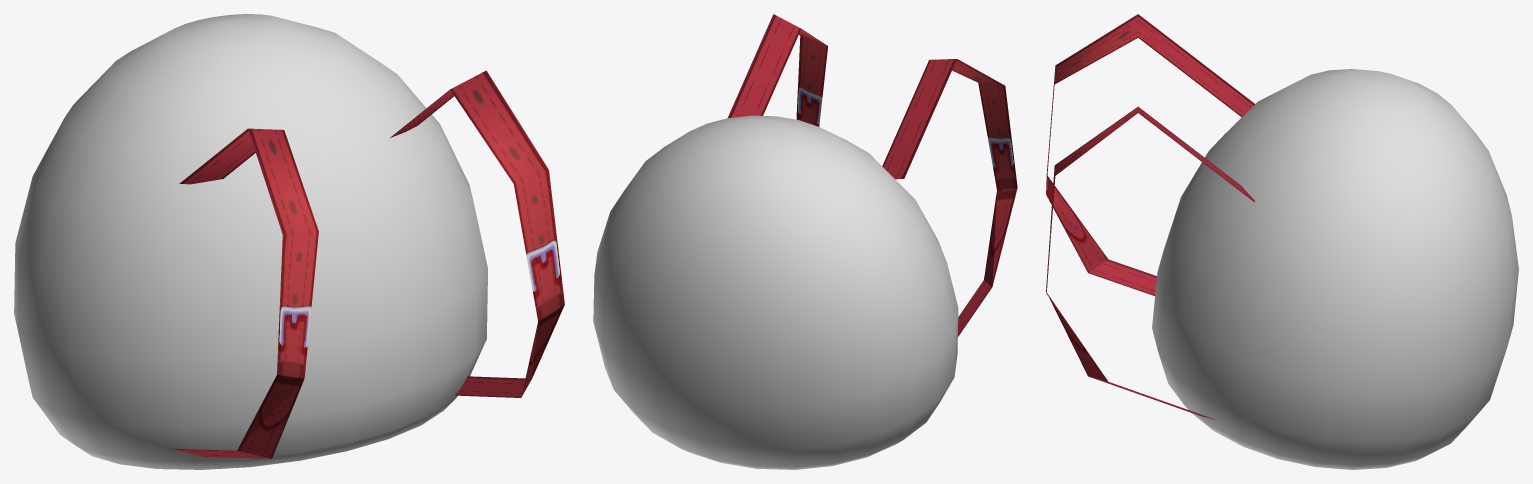
The model's file is acc_back0080.fbx.
The picture shows the model from 3 angles, left to right: view 1: azimuth 30°, elevation 25°; view 2: azimuth 150°, elevation 25°; view 3: azimuth 270°, elevation 25°; orthographic projection. The views are drawn at different scales.
Parts seen in each view (by area): view 1: base, acc_back0080_m; view 2: base, acc_back0080_m; view 3: base, acc_back0080_m.
Boxes of the visible parts, box(x1,y1,x2,y2) form: base: box(14, 14, 487, 469); acc_back0080_m: box(171, 70, 564, 458); base: box(593, 115, 958, 469); acc_back0080_m: box(727, 14, 1017, 336); base: box(1152, 69, 1518, 469); acc_back0080_m: box(1046, 14, 1254, 419).
Bounding box in the file's own units: 0.3894 × 0.3647 × 0.44.
